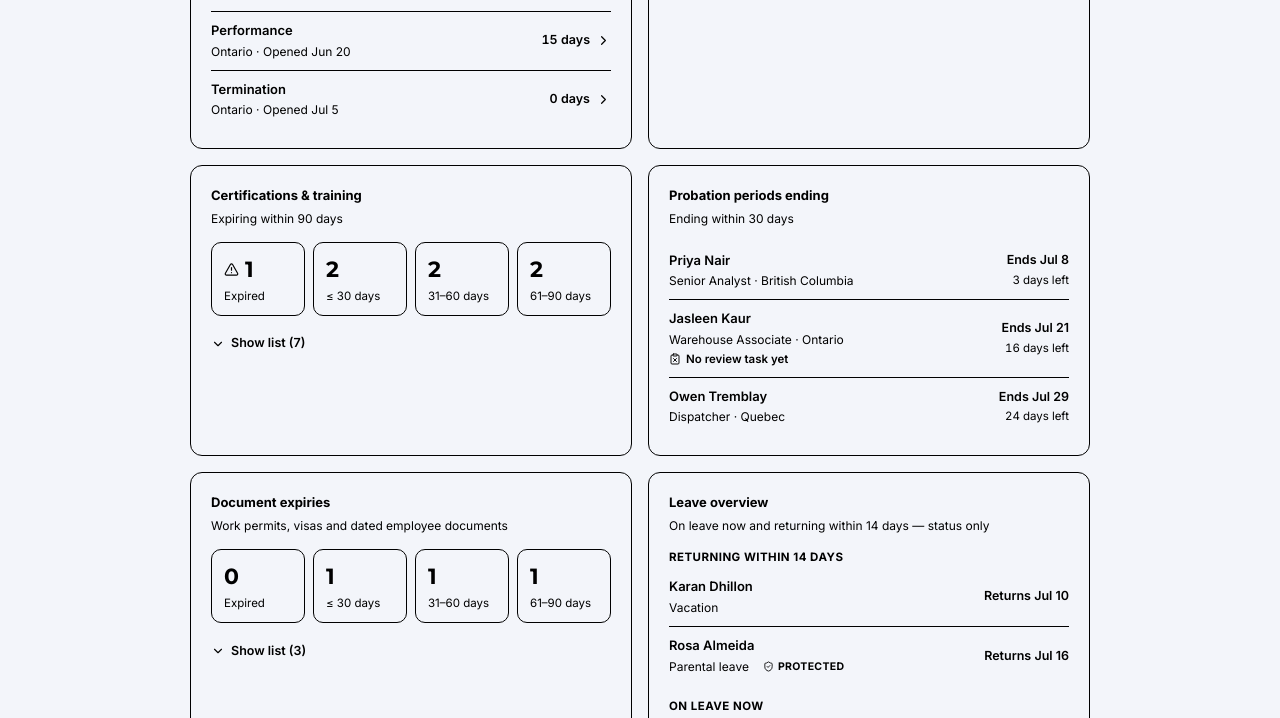
AnalyticsView (demo) › buckets certifications 1/2/2/2 and reveals the list in one tap
(page scrolled)
Expected: the text "Expired" below "Expiring within 90 days" is shown, [224,289,265,303]
Expected: the text "≤ 30 days" below "Expiring within 90 days" is shown, [326,289,380,303]
Click the button "Show list (7)".
click(258, 344)  # box [211,326,305,362]
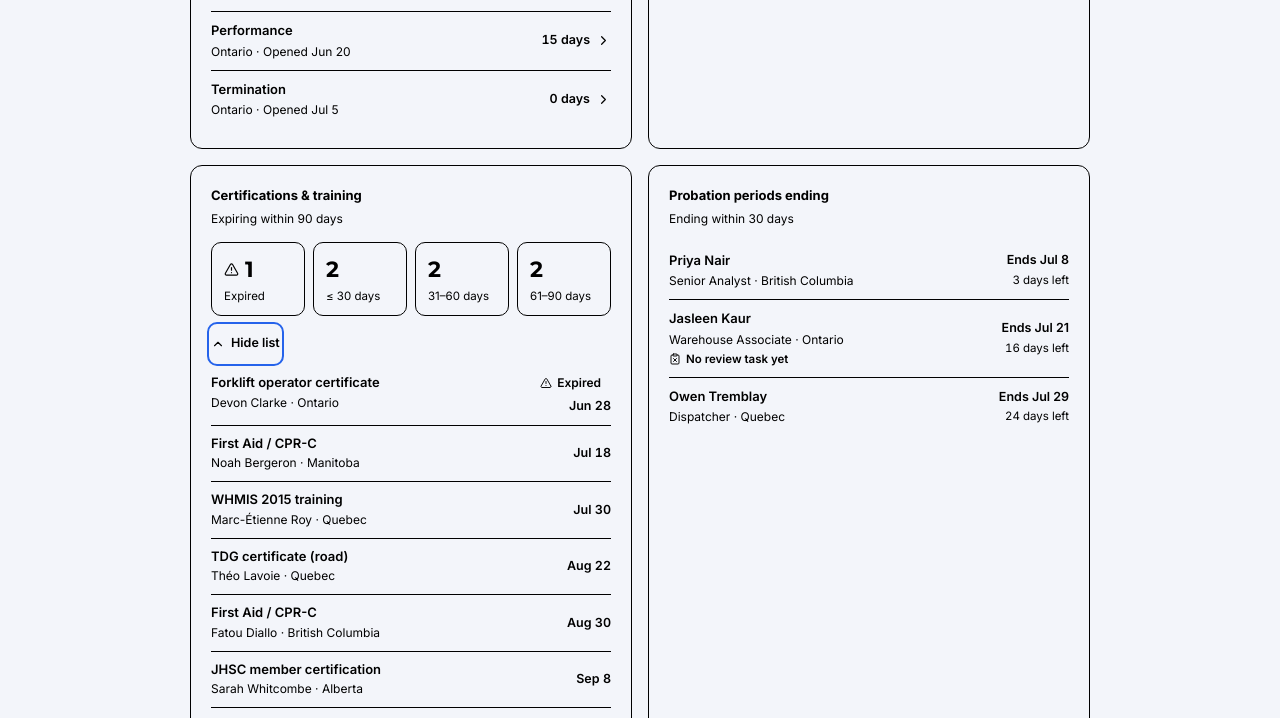
Now the 1st text "Forklift operator certificate" is shown, box [211,374,380,392]
Now the text "Devon Clarke · Ontario" is shown, box [211,395,339,410]
Now the text "First Aid / CPR-C" in the row of "Jul 18" is shown, box [211,435,317,451]
